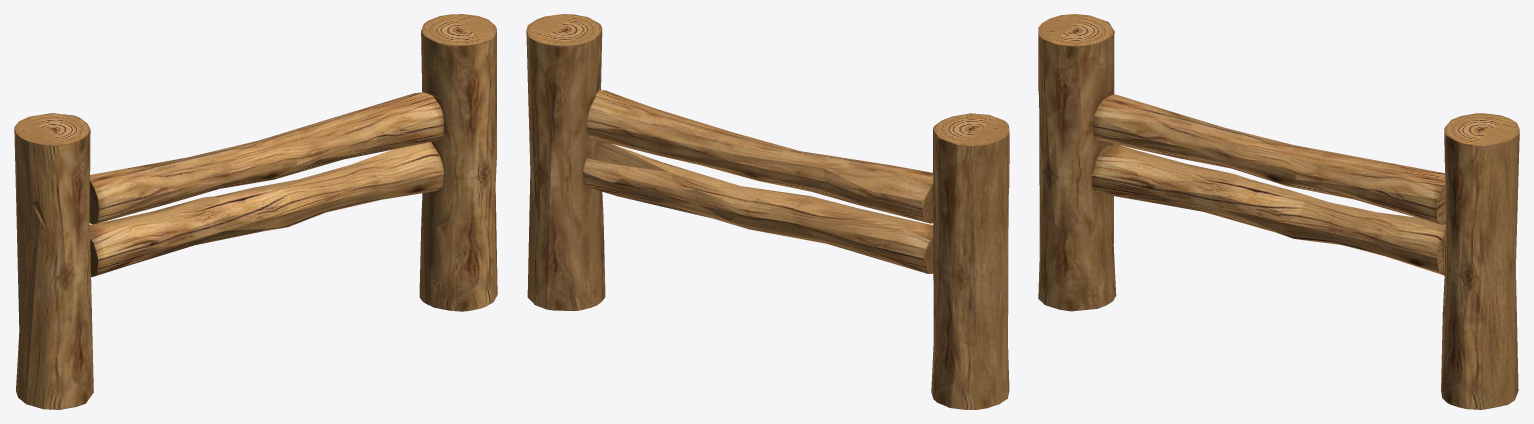
File: fence.glb
The picture shows the model from 3 angles, left to right: view 1: azimuth 30°, elevation 25°; view 2: azimuth 150°, elevation 25°; view 3: azimuth 330°, elevation 25°; orthographic projection.
Size of the model in its own units: 1.9 by 1.02 by 0.2764.
Materials: 1 (1 with a texture image).
